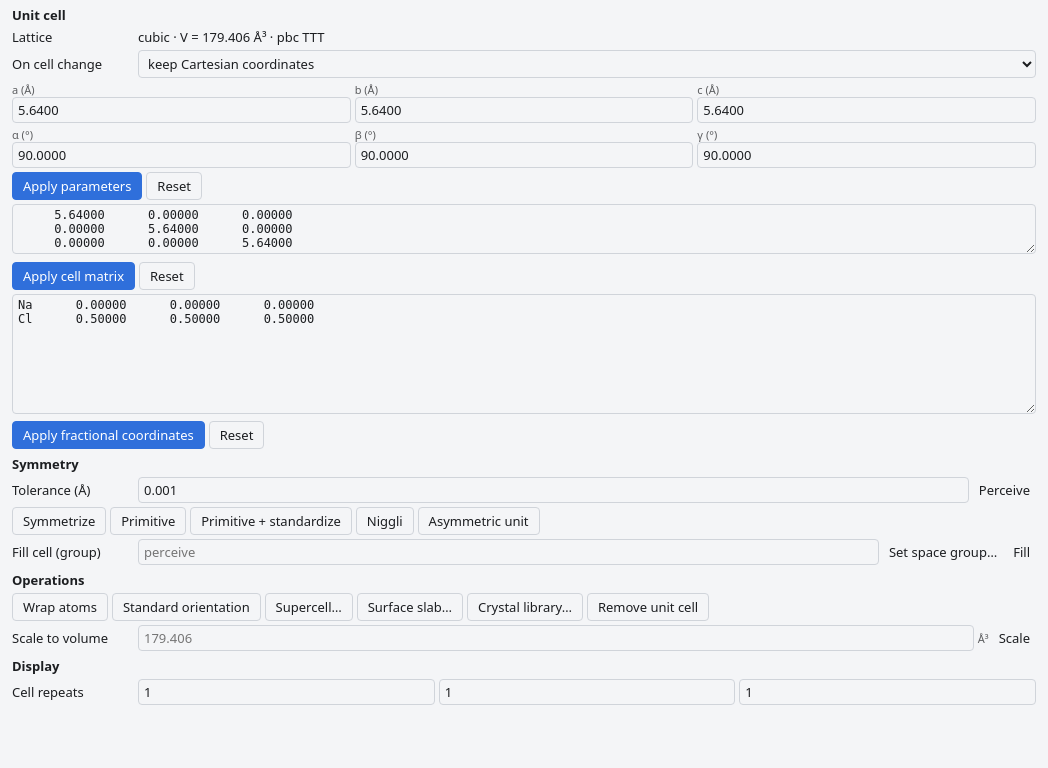
Scenario: shows cell parameters and perceives symmetry through the API
This screenshot has width=1048, height=768.
Expected: the field named "Cell a" holds "5.6400", [12,97,351,123]
Expected: the field named "Cell gamma" holds "90.0000", [697,142,1036,168]
Click the button "Perceive".
click(1004, 490)  # box [973,480,1036,500]
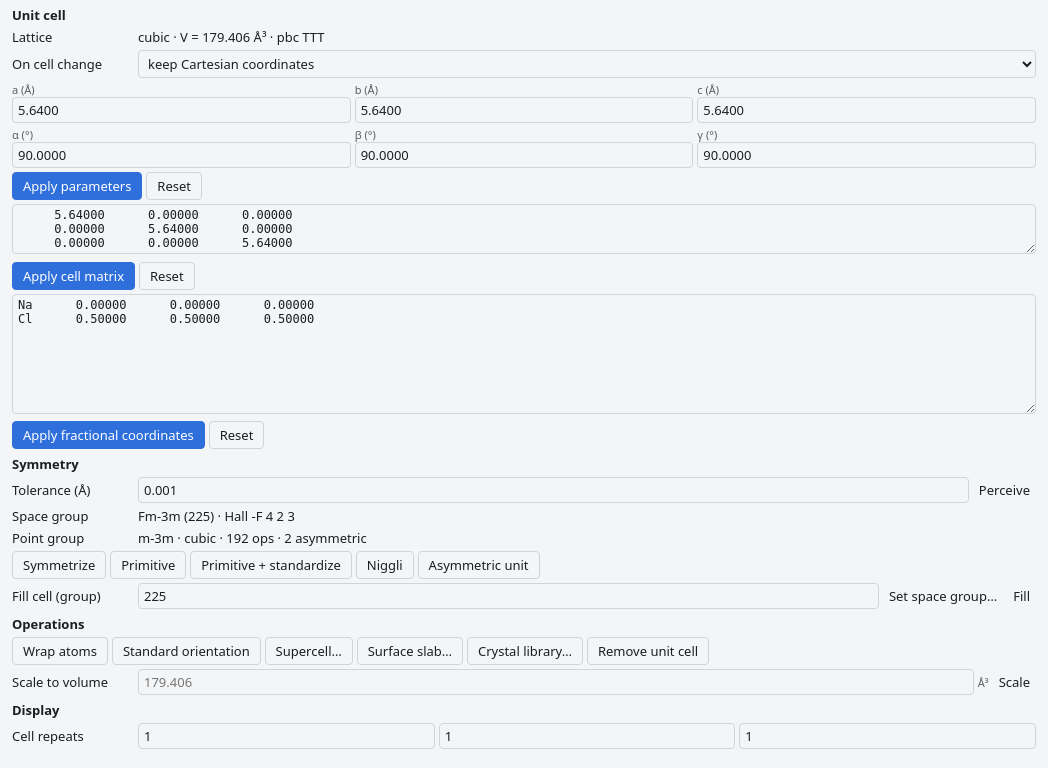
Expected: the text "Fm-3m (225) · Hall -F 4 2 3" is shown, [138,508,295,526]
Expected: the field labelled "Fill cell (group)" holds "225", [138,584,879,610]
